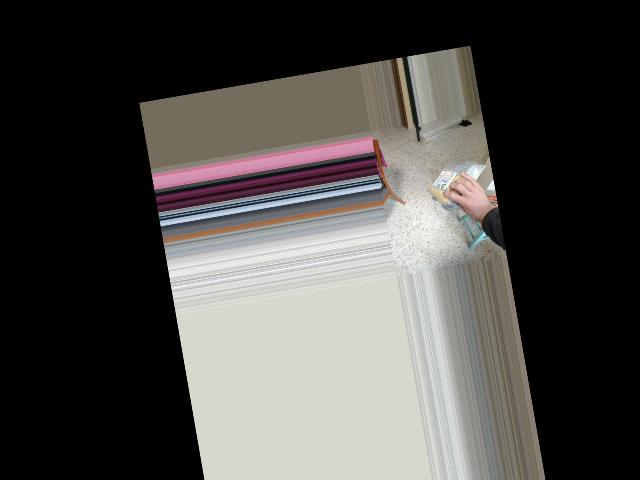cheese: (426, 160, 491, 203)
